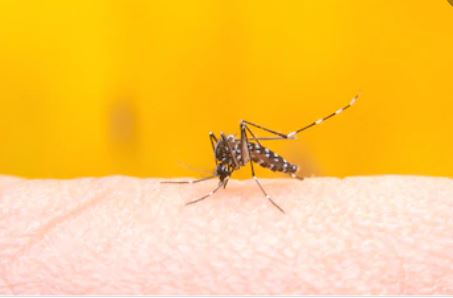dengue_mosquito: (190, 120, 304, 213)
